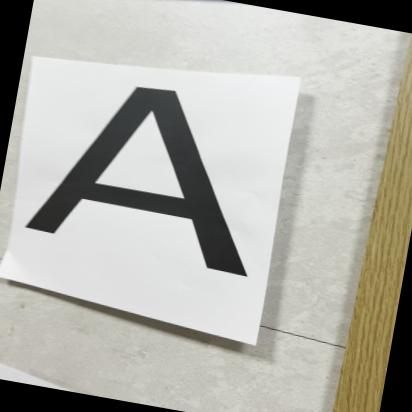seat: (15, 56, 295, 304)
